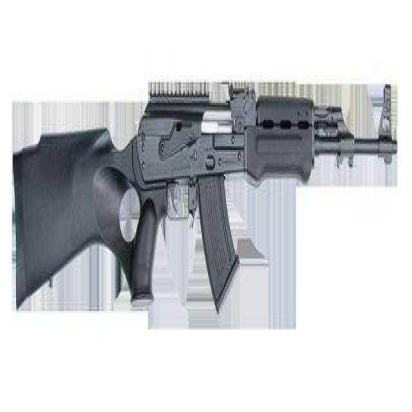Gun: (11, 47, 402, 330)
